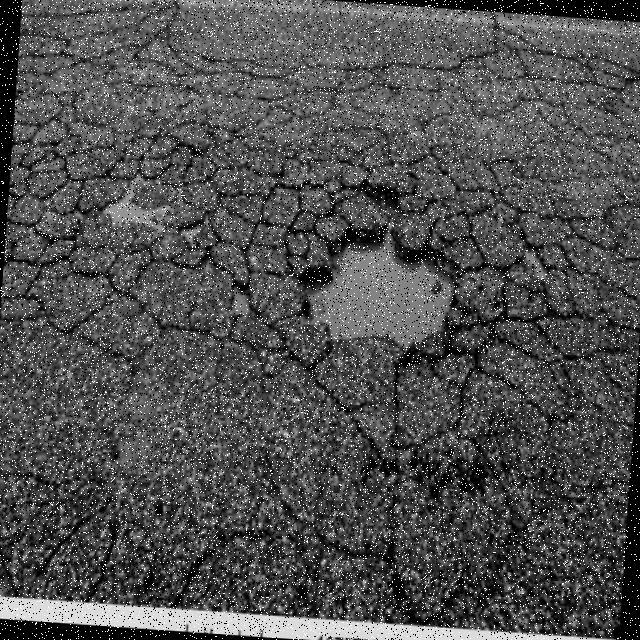Pothole: (302, 228, 458, 349)
